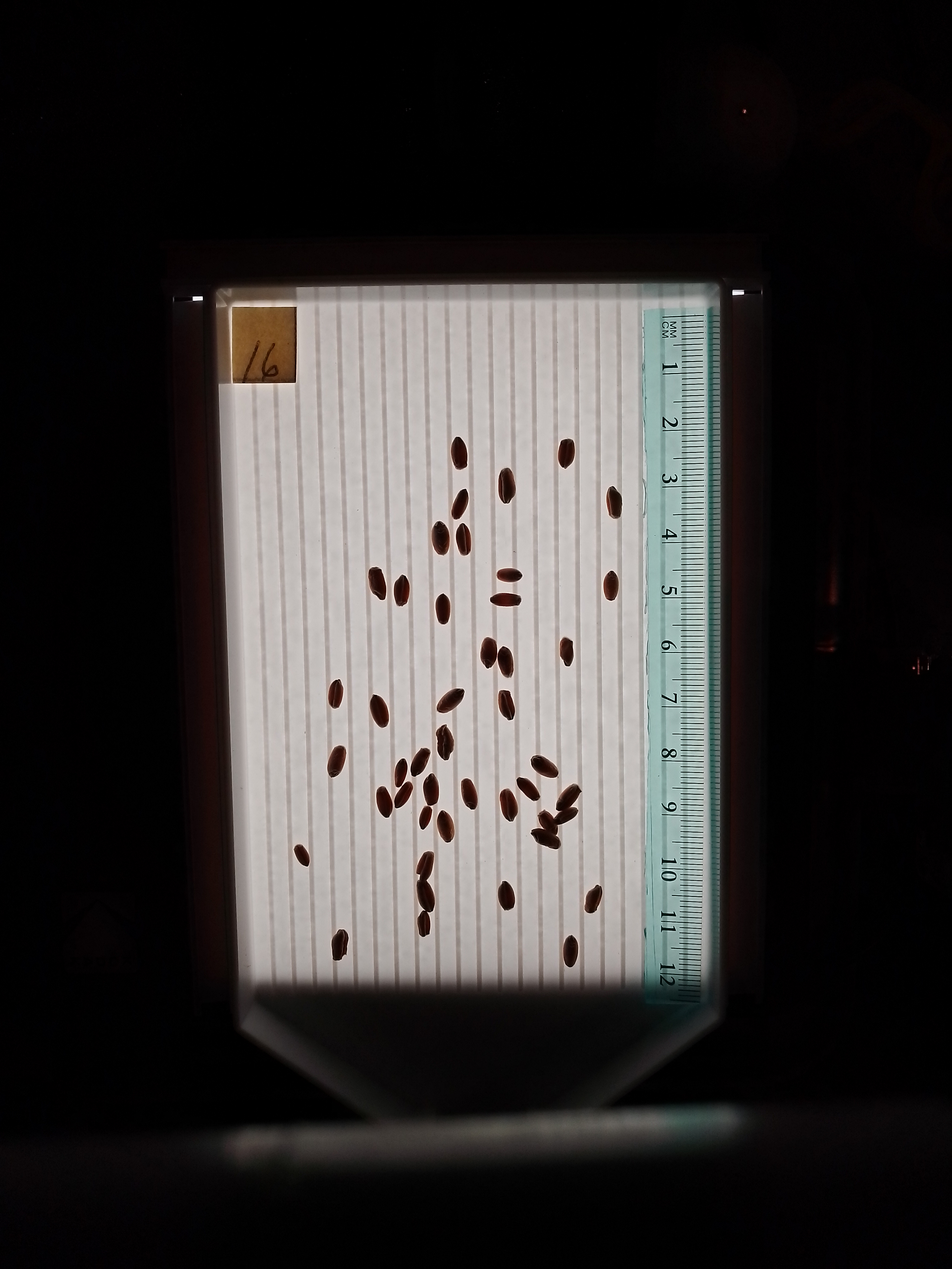seed mask: (437, 688, 464, 713), (531, 755, 558, 779), (532, 827, 560, 850), (327, 746, 347, 778), (602, 570, 622, 601), (368, 567, 387, 599), (370, 695, 389, 727), (557, 784, 580, 810), (499, 469, 516, 504), (417, 880, 435, 913), (500, 791, 518, 822), (331, 930, 349, 961), (606, 487, 623, 519), (432, 523, 449, 555), (563, 935, 579, 968), (437, 726, 453, 759), (558, 438, 575, 469), (411, 748, 430, 775), (451, 437, 467, 469), (480, 638, 497, 668), (517, 778, 539, 801), (393, 576, 410, 605), (376, 788, 393, 817), (456, 525, 472, 555), (461, 779, 477, 809), (438, 812, 454, 842), (498, 646, 513, 677), (452, 490, 468, 519), (328, 680, 344, 709), (499, 882, 515, 911), (585, 886, 602, 913), (424, 775, 439, 805), (395, 783, 413, 808), (499, 691, 515, 719), (435, 595, 450, 624), (417, 852, 433, 879), (539, 811, 557, 833), (555, 808, 577, 826), (559, 638, 573, 666), (394, 759, 408, 786), (491, 594, 520, 607), (498, 567, 521, 583), (417, 912, 431, 937), (294, 845, 310, 866), (420, 806, 432, 829)
